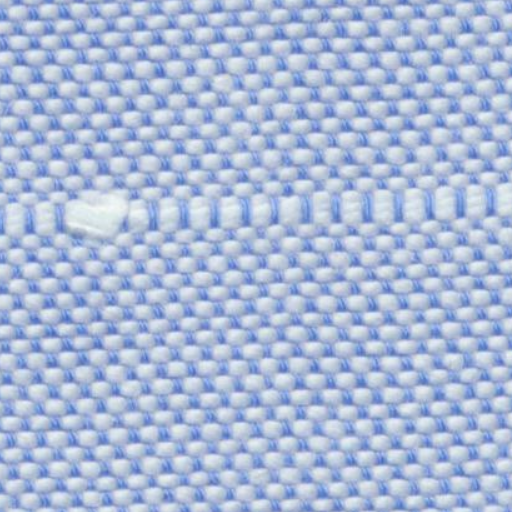MianQiu: (48, 163, 144, 268)
